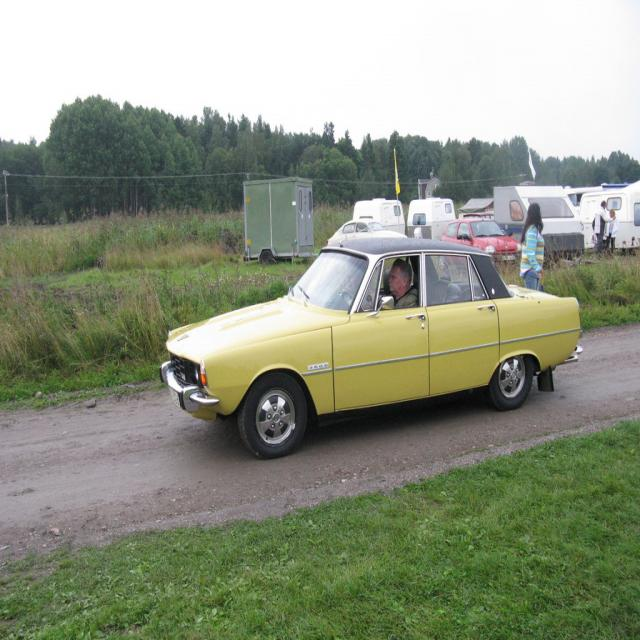other: (146, 227, 582, 459), (438, 205, 522, 269), (325, 218, 406, 245)
